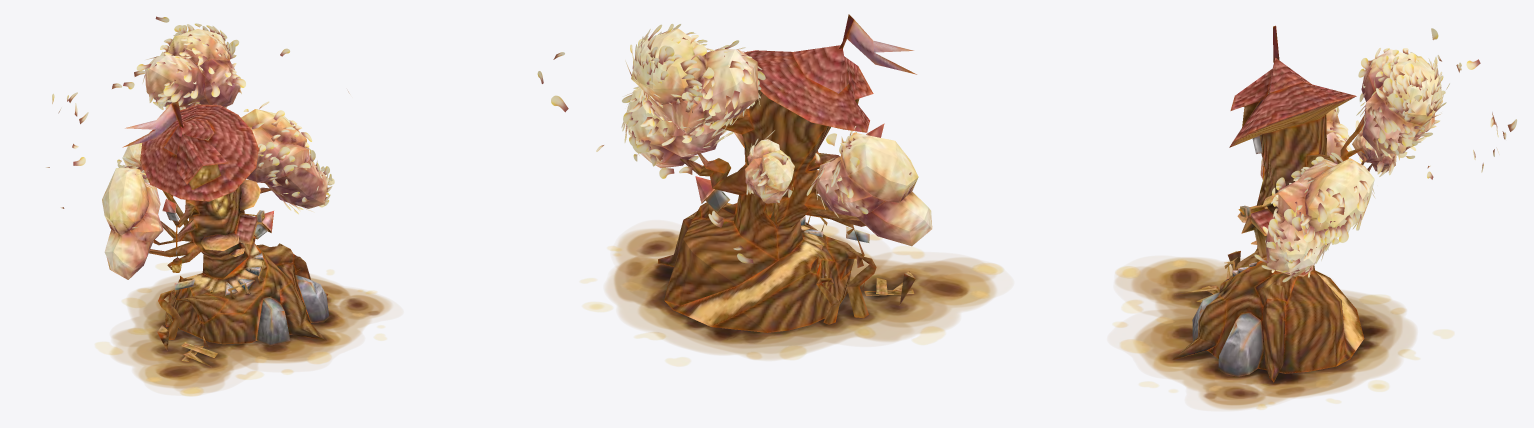
File: BLD_FloTreehouse_lod.glb
The picture shows the model from 3 angles, left to right: view 1: azimuth 30°, elevation 25°; view 2: azimuth 150°, elevation 25°; view 3: azimuth 270°, elevation 25°; orthographic projection. The views are drawn at different scales.
Visible parts, largest first — view 1: Cube.009_0, Circle.007_0, Cube.3468_0; view 2: Cube.009_0, Circle.007_0, Cube.3468_0; view 3: Cube.009_0, Circle.007_0, Cube.3468_0.
Boxes of the visible parts, <box> form: Cube.009_0: <box>102,29,329,366</box>; Circle.007_0: <box>95,263,392,396</box>; Cube.3468_0: <box>45,16,350,229</box>; Cube.009_0: <box>626,14,932,332</box>; Circle.007_0: <box>580,224,1003,366</box>; Cube.3468_0: <box>537,23,912,275</box>; Cube.009_0: <box>1172,25,1442,382</box>; Circle.007_0: <box>1113,257,1453,409</box>; Cube.3468_0: <box>1254,28,1517,282</box>.
Size of the model in its own units: 2.57 by 2.09 by 2.82.
3 materials, 3 textured.
